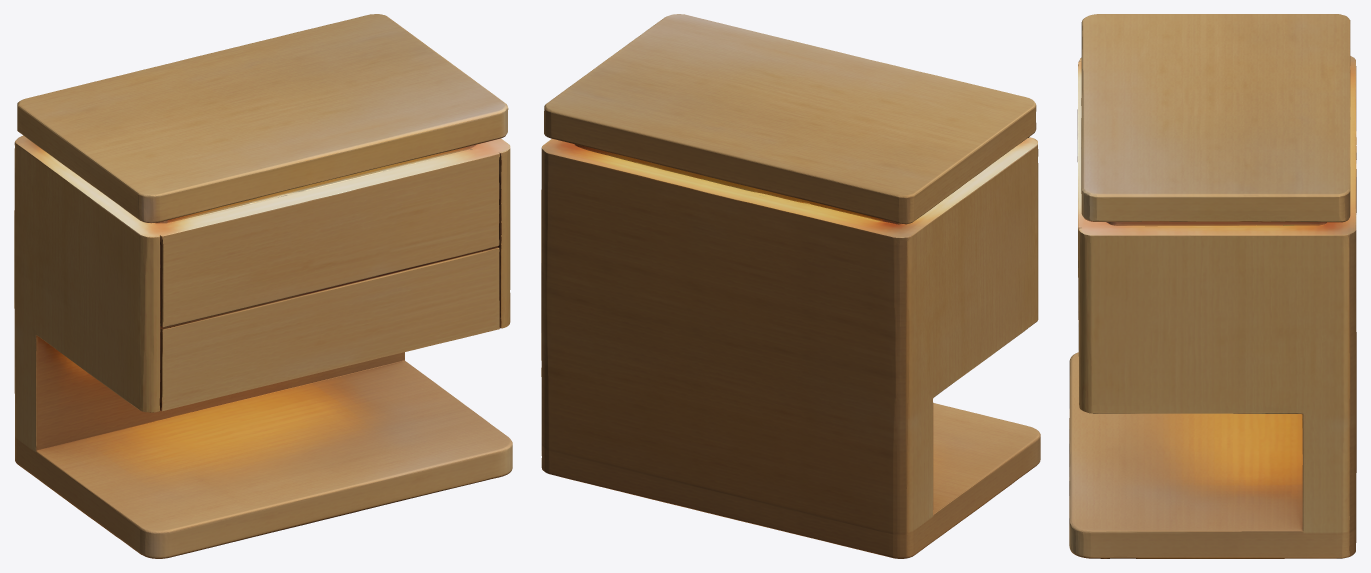
Rendered from BURO BARPER NUEZ.glb.
3 renders of one model, left to right at view 1: azimuth 30°, elevation 25°; view 2: azimuth 150°, elevation 25°; view 3: azimuth 270°, elevation 25°, orthographic.
Visible parts, largest first — view 1: world; view 2: world; view 3: world.
Boxes of the visible parts, x1,y1,x2,y2 form: world: (14, 14, 512, 558); world: (541, 14, 1040, 558); world: (1069, 14, 1356, 558).
Size of the model in its own units: 0.6 by 0.56 by 0.4.
1 material, 1 textured.
